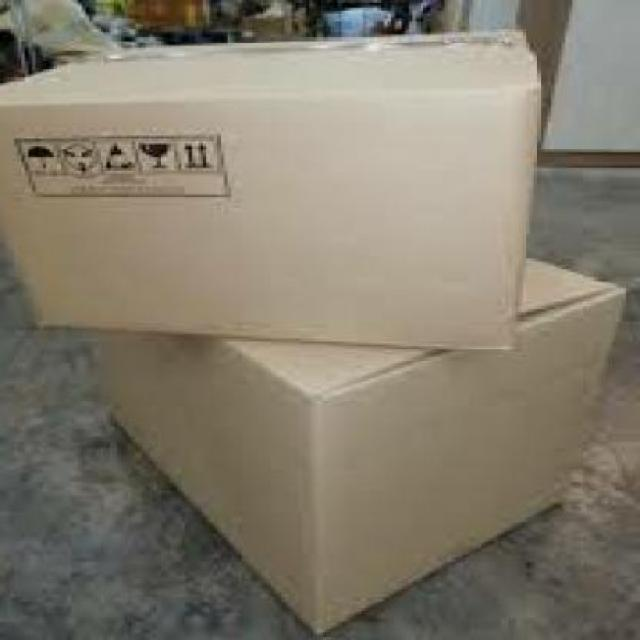-: (66, 258, 624, 629), (0, 41, 531, 356)
